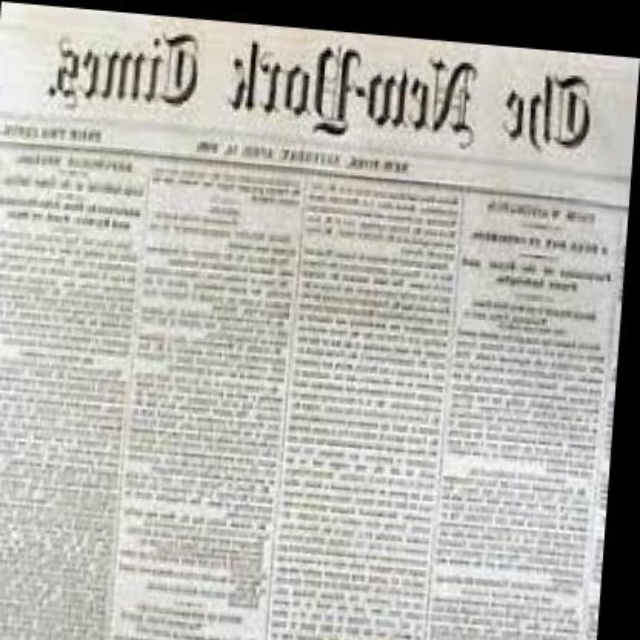trash: (0, 5, 637, 638)
